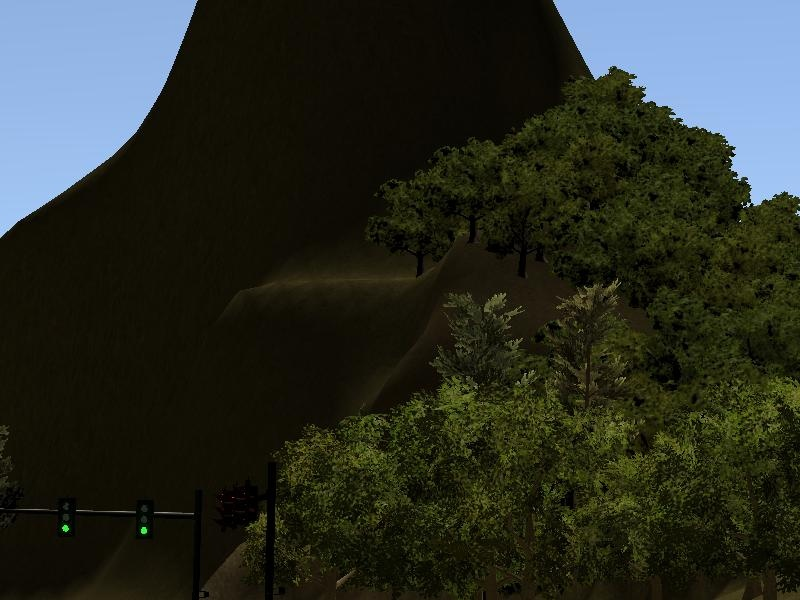GREEN: (130, 496, 156, 543), (54, 495, 77, 542)
